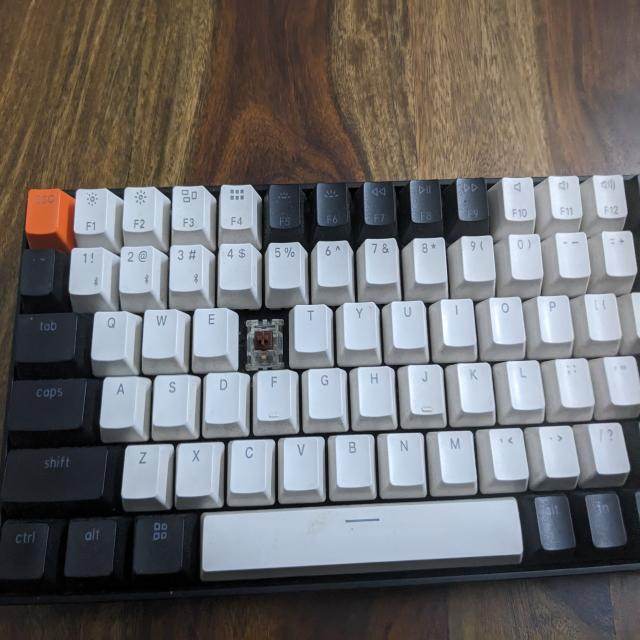key-switch: (248, 318, 283, 366)
